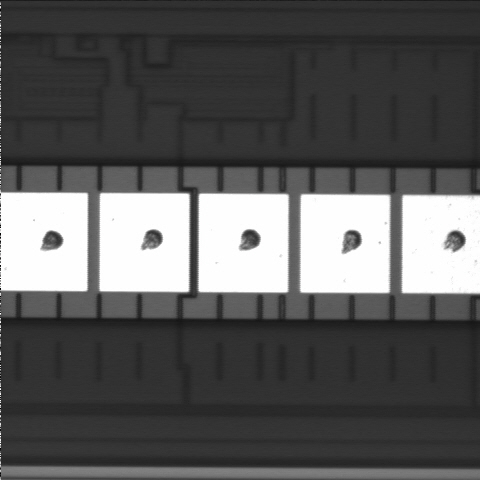pad: (300, 194, 390, 293), (100, 193, 189, 292), (199, 194, 288, 292)
